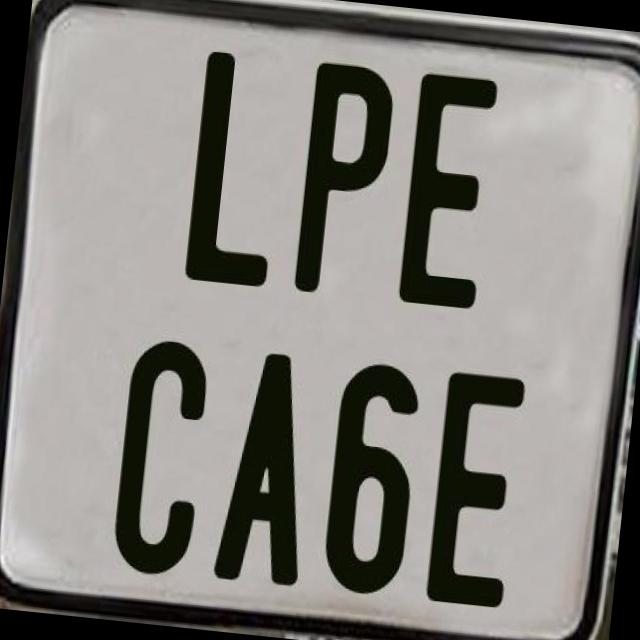6: (318, 354, 430, 602)
A: (212, 346, 321, 583)
C: (106, 333, 210, 580)
E: (392, 66, 502, 314), (423, 368, 526, 612)
L: (182, 47, 296, 294)
P: (290, 58, 396, 296)
